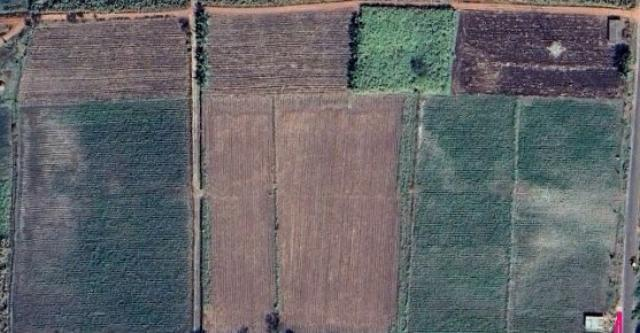EmptyFarms: (274, 97, 400, 332), (204, 96, 273, 332), (452, 8, 624, 99), (17, 18, 190, 102), (11, 106, 73, 332), (201, 7, 352, 94)
Farms: (39, 100, 189, 331), (504, 97, 622, 332), (406, 94, 517, 332), (351, 4, 454, 91)
